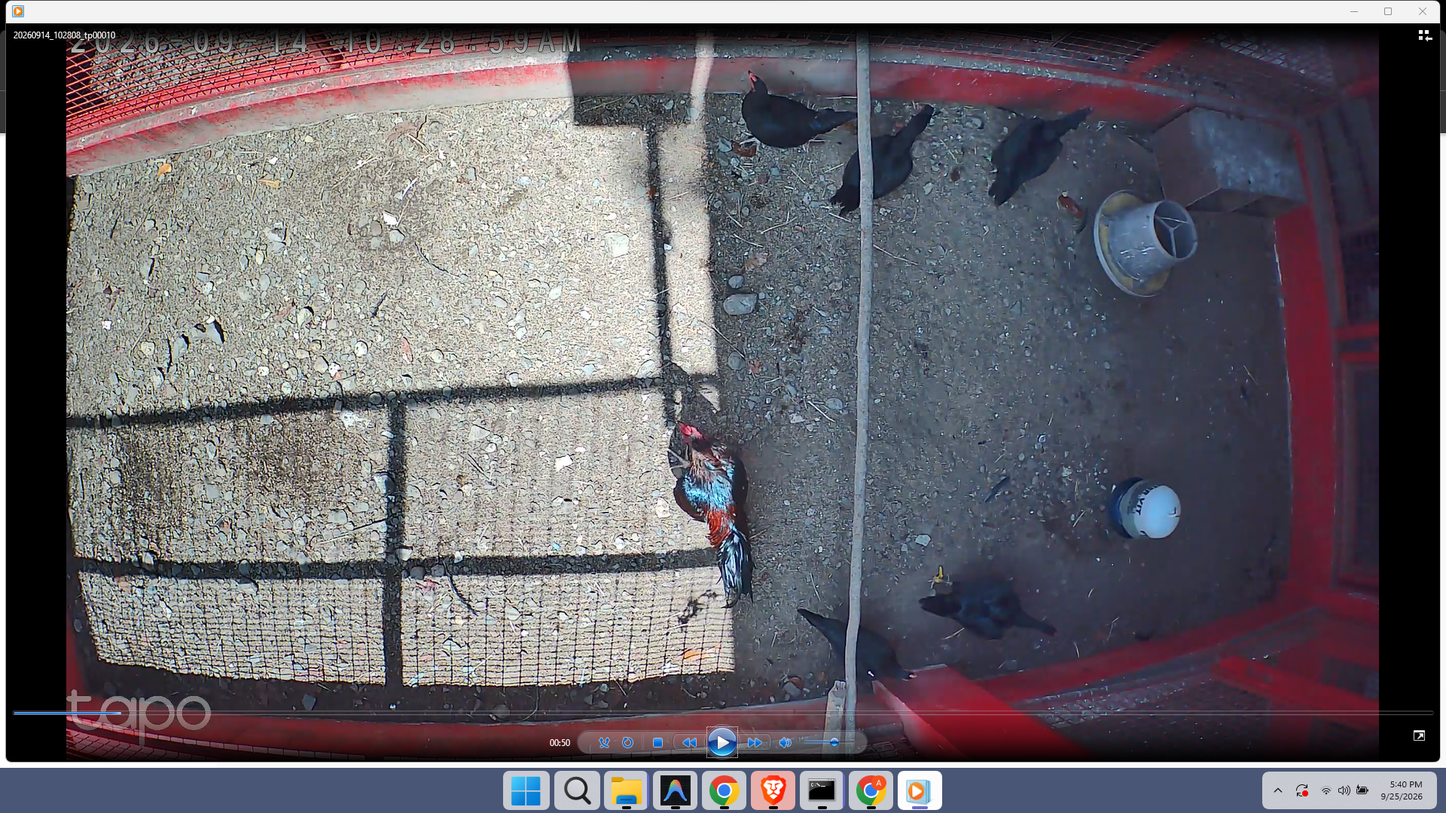Chicken: (828, 100, 938, 218), (984, 101, 1094, 209), (915, 567, 1063, 646), (795, 607, 923, 690), (732, 68, 860, 149)
Drinker: (1106, 472, 1184, 542)
Feeder: (1091, 186, 1200, 296)
Rooster: (657, 418, 769, 613)
